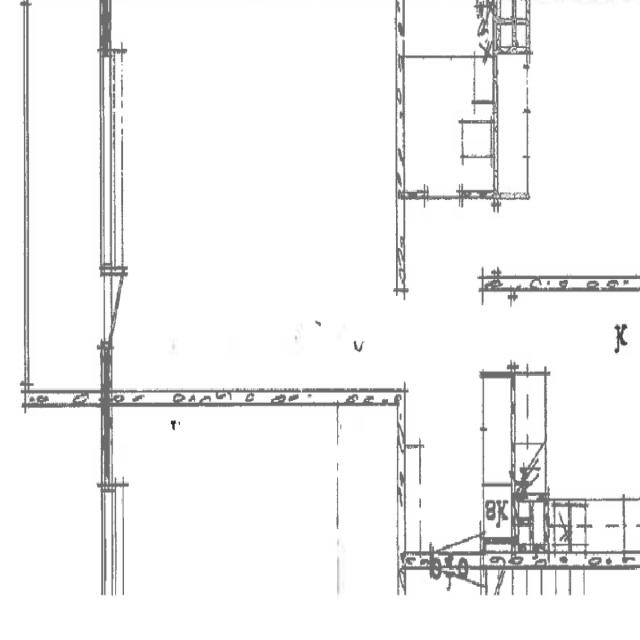door: (431, 460, 480, 568), (431, 550, 480, 640), (100, 271, 154, 347)
